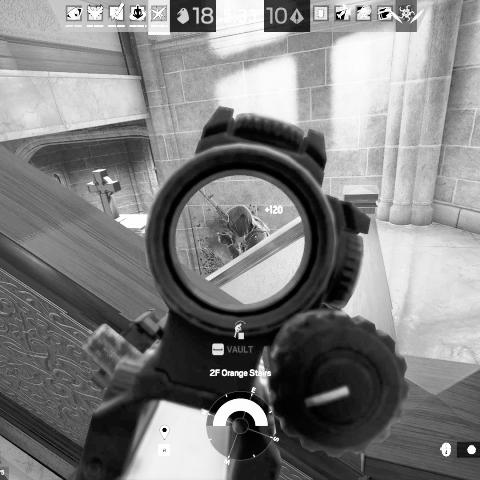Character: (218, 204, 268, 260)
Head: (228, 205, 254, 237)
